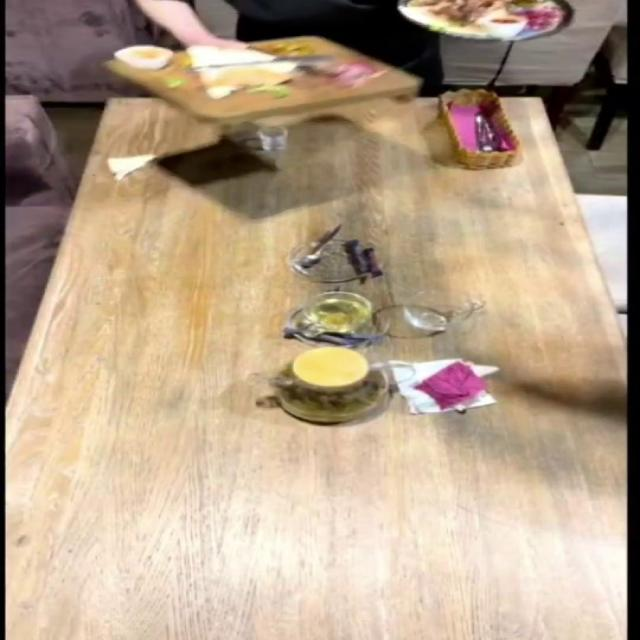tea: (280, 339, 407, 434)
